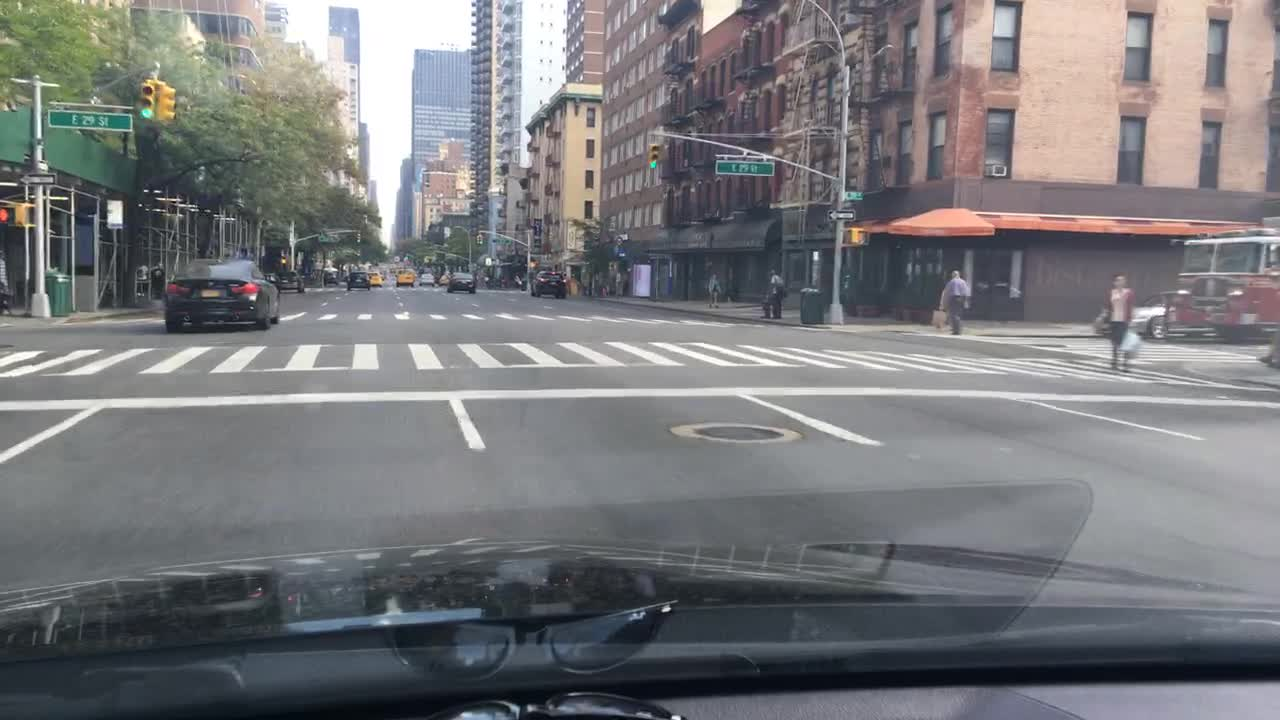bus: (1170, 224, 1276, 338)
car: (166, 252, 280, 336), (1094, 288, 1202, 339), (533, 271, 568, 299), (447, 271, 479, 293), (278, 268, 306, 293), (394, 269, 415, 287), (267, 273, 285, 293), (321, 270, 340, 285), (370, 269, 383, 287), (420, 273, 435, 285)
person: (1102, 270, 1138, 372), (938, 269, 972, 338), (766, 268, 788, 320), (704, 273, 723, 309)
traffic light: (136, 78, 157, 121), (0, 203, 30, 230), (157, 82, 175, 123), (649, 138, 662, 170), (844, 229, 866, 246), (476, 226, 483, 245), (357, 231, 360, 246)
traffic sign: (46, 111, 131, 130), (712, 158, 777, 179), (19, 171, 57, 185), (826, 206, 853, 219), (844, 190, 865, 201), (318, 232, 336, 241), (491, 237, 511, 245)
